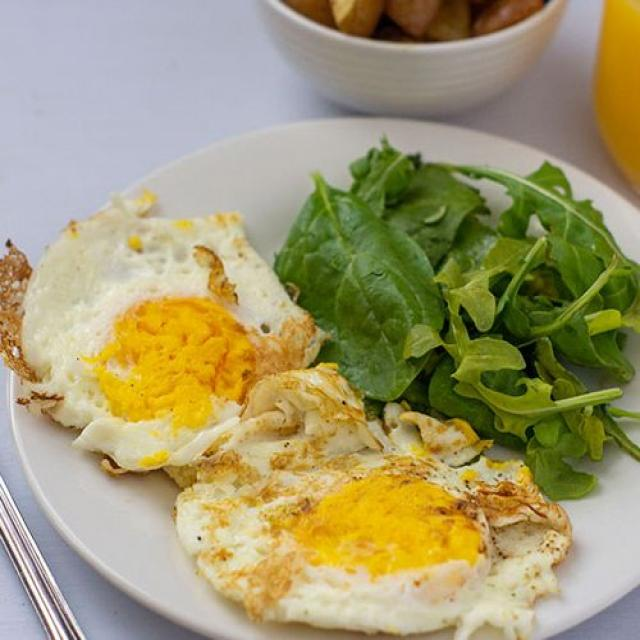Egg: (176, 365, 571, 636), (0, 190, 325, 474)
